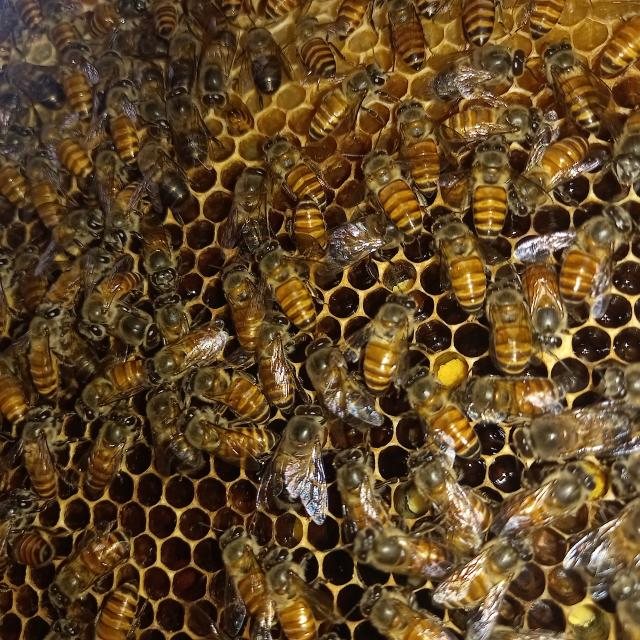honeybee: (442, 532, 552, 623), (402, 448, 502, 546), (206, 519, 284, 634), (406, 359, 484, 471), (270, 396, 337, 521), (50, 521, 136, 611), (303, 333, 376, 434), (494, 461, 592, 531), (259, 547, 332, 640), (361, 143, 422, 249), (262, 119, 334, 208), (365, 290, 419, 408), (414, 38, 536, 89), (578, 196, 632, 309), (543, 33, 607, 127), (185, 411, 290, 467), (154, 316, 241, 383), (360, 582, 460, 640), (316, 61, 388, 140), (460, 371, 571, 422), (522, 246, 572, 358), (466, 128, 514, 244), (511, 401, 640, 444), (257, 239, 316, 331), (514, 134, 590, 205), (485, 275, 535, 377), (392, 91, 442, 193), (432, 211, 482, 311), (591, 487, 640, 587), (440, 95, 546, 141), (144, 379, 192, 479), (220, 253, 272, 344), (82, 404, 128, 506), (132, 128, 191, 206), (249, 310, 298, 402), (99, 72, 146, 165), (87, 354, 151, 422), (20, 410, 61, 515), (72, 275, 138, 340), (195, 365, 265, 424), (380, 0, 434, 76), (227, 140, 263, 253), (42, 252, 113, 308), (4, 514, 58, 584), (294, 181, 335, 273), (240, 18, 287, 98), (5, 50, 74, 104), (97, 574, 153, 640), (160, 92, 213, 161), (198, 24, 238, 108), (22, 301, 58, 390), (294, 13, 342, 78), (597, 8, 640, 80), (9, 235, 44, 318), (45, 123, 91, 184), (68, 43, 100, 128), (59, 198, 109, 251), (32, 142, 64, 223), (82, 1, 150, 38), (145, 215, 183, 281), (146, 290, 194, 339), (0, 151, 35, 217), (1, 347, 24, 432), (458, 0, 502, 44), (335, 0, 375, 48), (524, 0, 560, 45), (15, 0, 54, 38), (48, 11, 84, 52), (154, 0, 178, 40), (43, 616, 82, 640)
